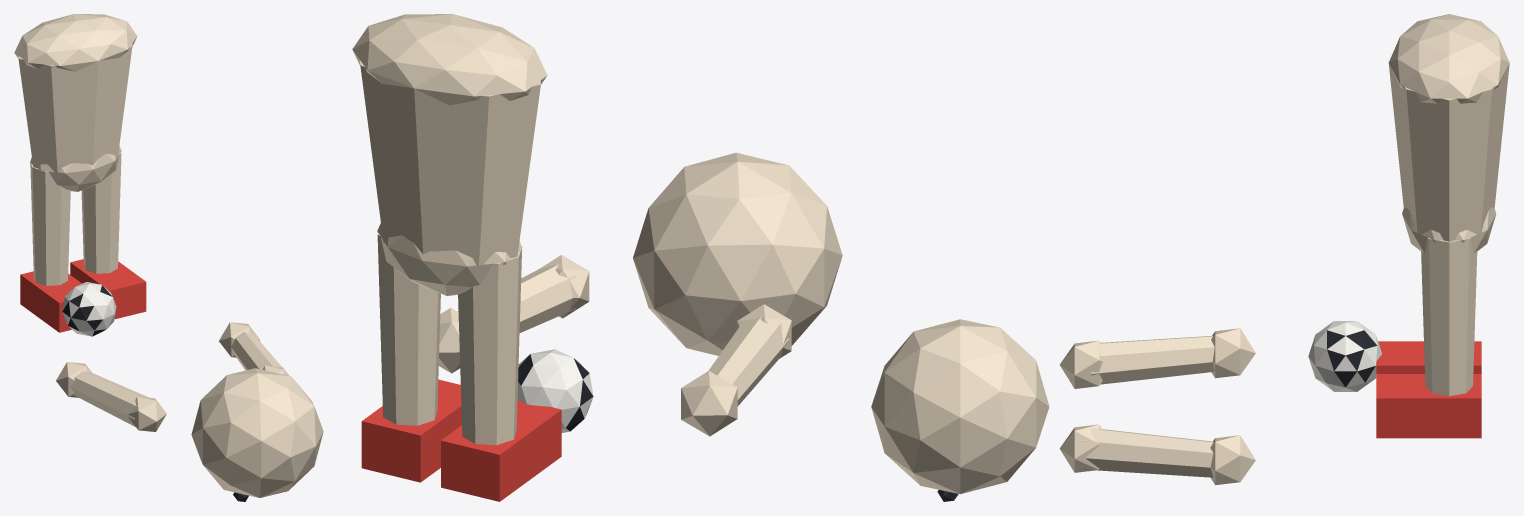
Rendered from athlete_soccer.fbx.
The picture shows the model from 3 angles, left to right: view 1: azimuth 30°, elevation 25°; view 2: azimuth 150°, elevation 25°; view 3: azimuth 270°, elevation 25°; orthographic projection. The views are drawn at different scales.
Parts seen in each view (by area): view 1: Torso, Head, LegR, LegL, ArmR, Ball, ArmL; view 2: Torso, Head, LegR, LegL, ArmR, ArmL, Ball; view 3: Head, Torso, LegL, ArmL, ArmR, Ball, LegR.
Boxes of the visible parts, left/top/right/bottom form: Torso: left=14, top=14, right=137, bottom=191; Head: left=191, top=368, right=323, bottom=501; LegR: left=20, top=164, right=81, bottom=332; LegL: left=70, top=152, right=146, bottom=319; ArmR: left=56, top=362, right=166, bottom=431; Ball: left=62, top=282, right=116, bottom=336; ArmL: left=219, top=322, right=288, bottom=375; Torso: left=352, top=14, right=547, bottom=295; Head: left=633, top=152, right=842, bottom=355; LegR: left=441, top=246, right=561, bottom=501; LegL: left=361, top=233, right=461, bottom=482; ArmR: left=681, top=304, right=791, bottom=436; ArmL: left=438, top=255, right=589, bottom=373; Ball: left=517, top=349, right=593, bottom=432; Head: left=871, top=319, right=1049, bottom=501; Torso: left=1388, top=14, right=1509, bottom=253; LegL: left=1376, top=237, right=1481, bottom=438; ArmL: left=1059, top=424, right=1255, bottom=485; ArmR: left=1059, top=328, right=1255, bottom=388; Ball: left=1308, top=321, right=1381, bottom=391; LegR: left=1376, top=341, right=1481, bottom=373.
Size of the model in its own units: 1.06 by 1.75 by 2.22.
